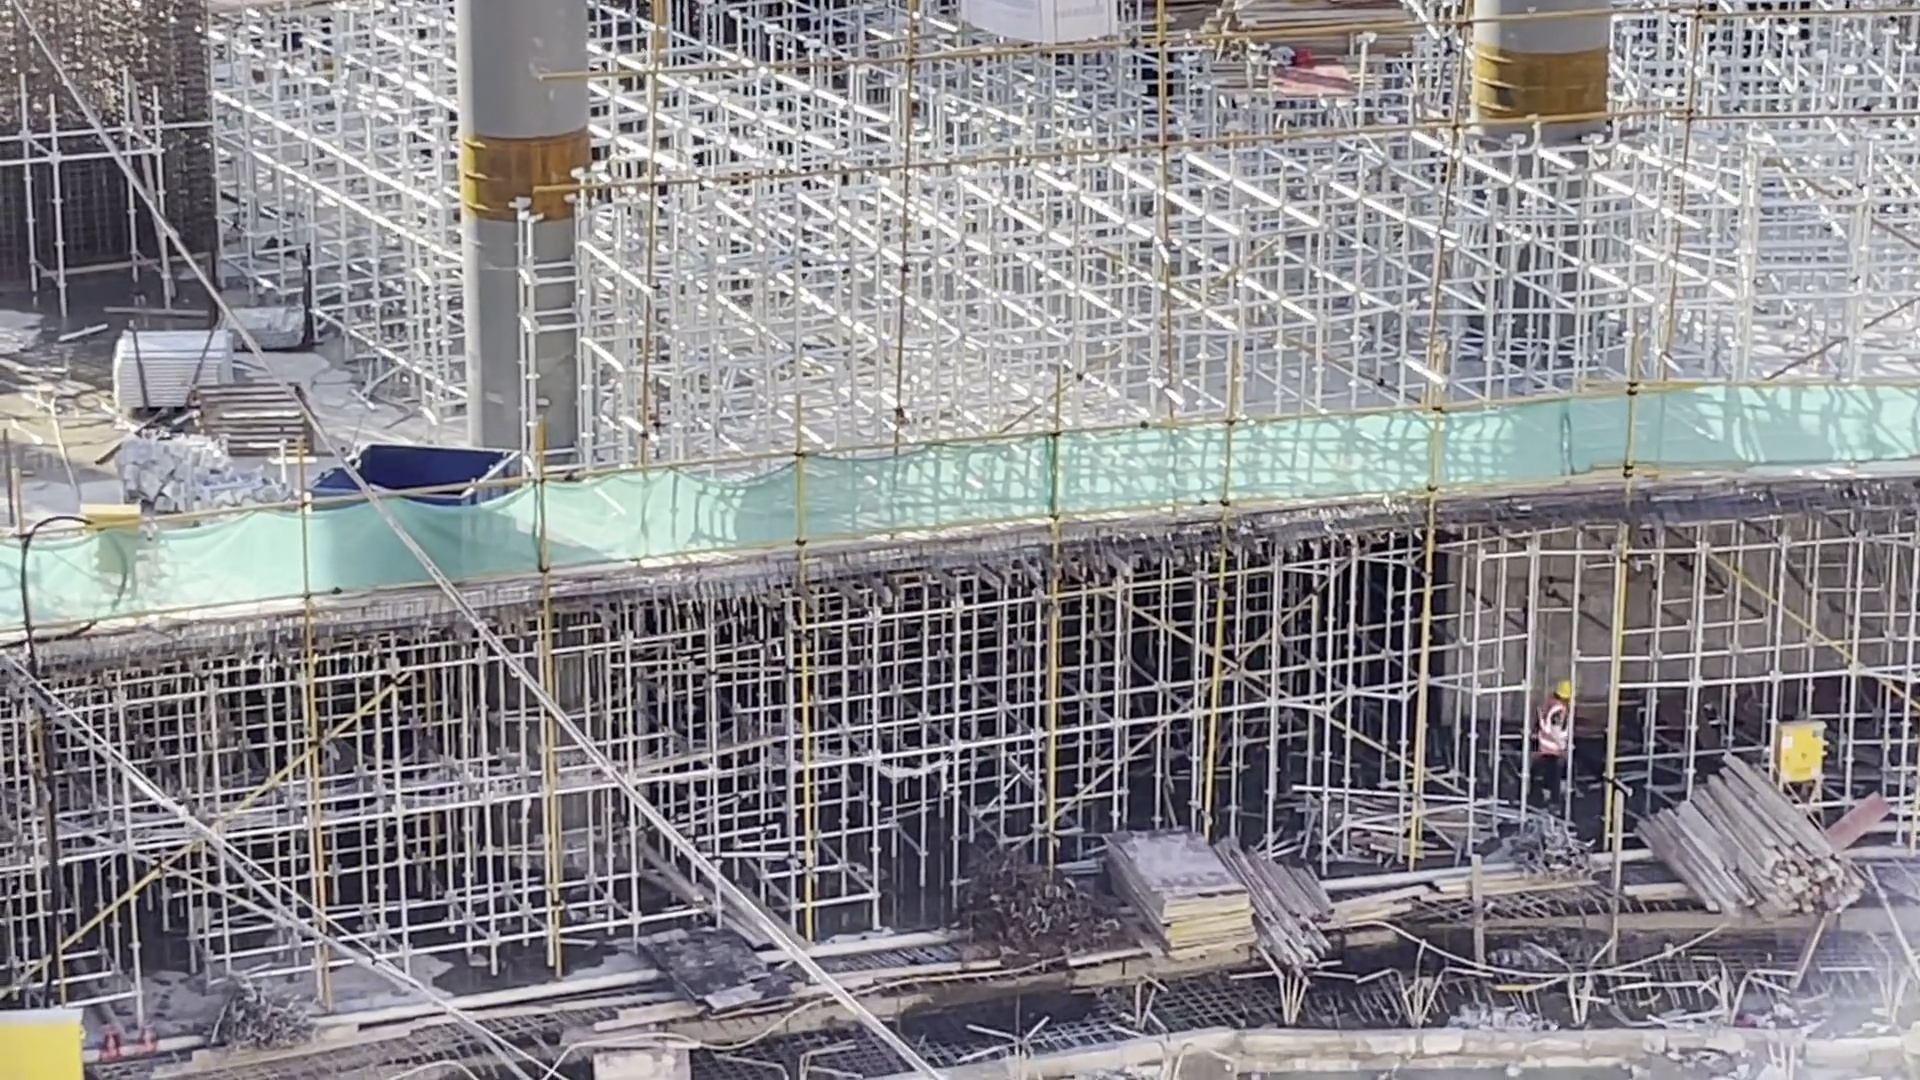board: (1101, 827, 1262, 965)
ebox: (1765, 713, 1830, 795), (78, 498, 144, 517)
helmet: (1553, 681, 1572, 699)
hopper: (348, 438, 532, 478)
person: (1536, 679, 1567, 804)
scaffold: (111, 322, 234, 386)
vest: (1538, 700, 1570, 760)
wood: (1634, 750, 1875, 927), (1260, 849, 1334, 980)
